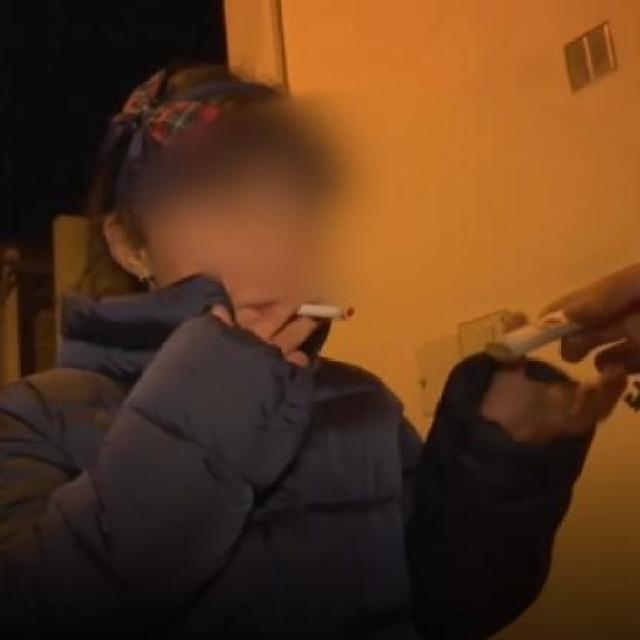cigarette: (261, 285, 357, 352)
